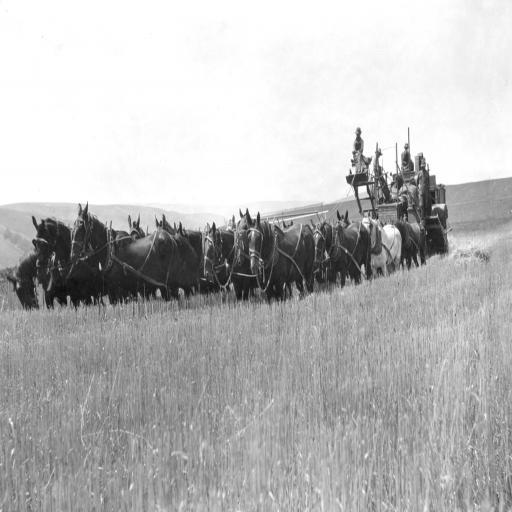Horse: (7, 201, 426, 311)
